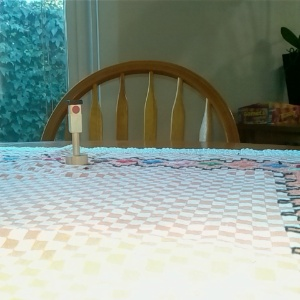traffic light red: (63, 98, 89, 167)
